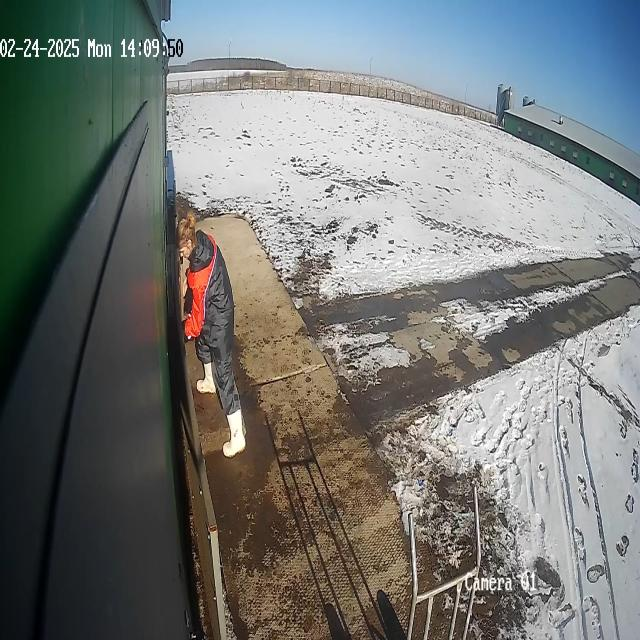Red uniform: (175, 212, 248, 461)
